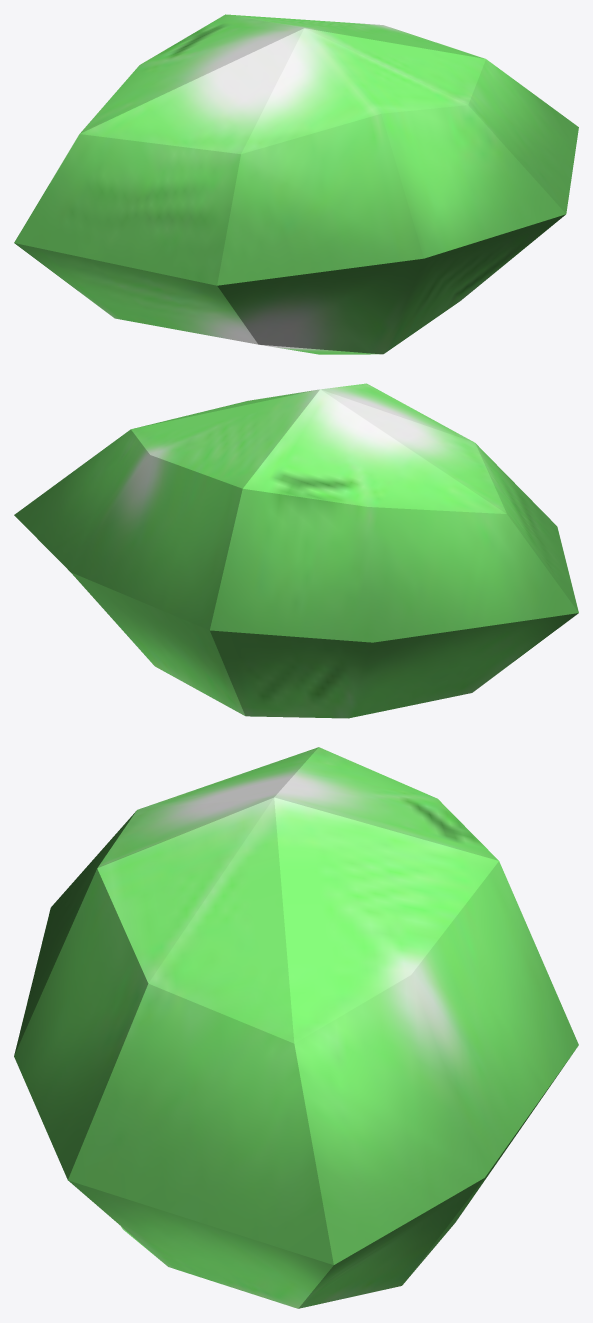
The model's file is gemme_inerte.fbx.
3 renders of one model, top to bottom at view 1: azimuth 30°, elevation 25°; view 2: azimuth 150°, elevation 25°; view 3: azimuth 270°, elevation 25°, orthographic. The views are drawn at different scales.
Parts seen in each view (by area): view 1: pCylinder56; view 2: pCylinder56; view 3: pCylinder56.
Part boxes in pixels (box(x1,y1,x2,y2)): pCylinder56: box(14, 14, 578, 354); pCylinder56: box(14, 383, 578, 718); pCylinder56: box(14, 747, 578, 1308).
Size of the model in its own units: 8.37 by 4.62 by 5.04.
